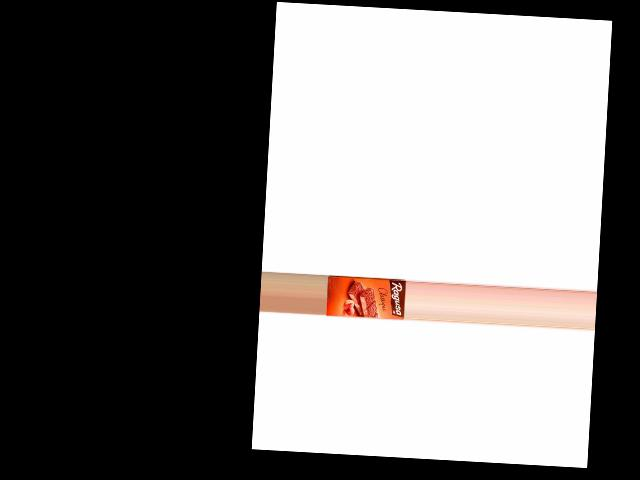chocolate: (324, 273, 405, 324)
